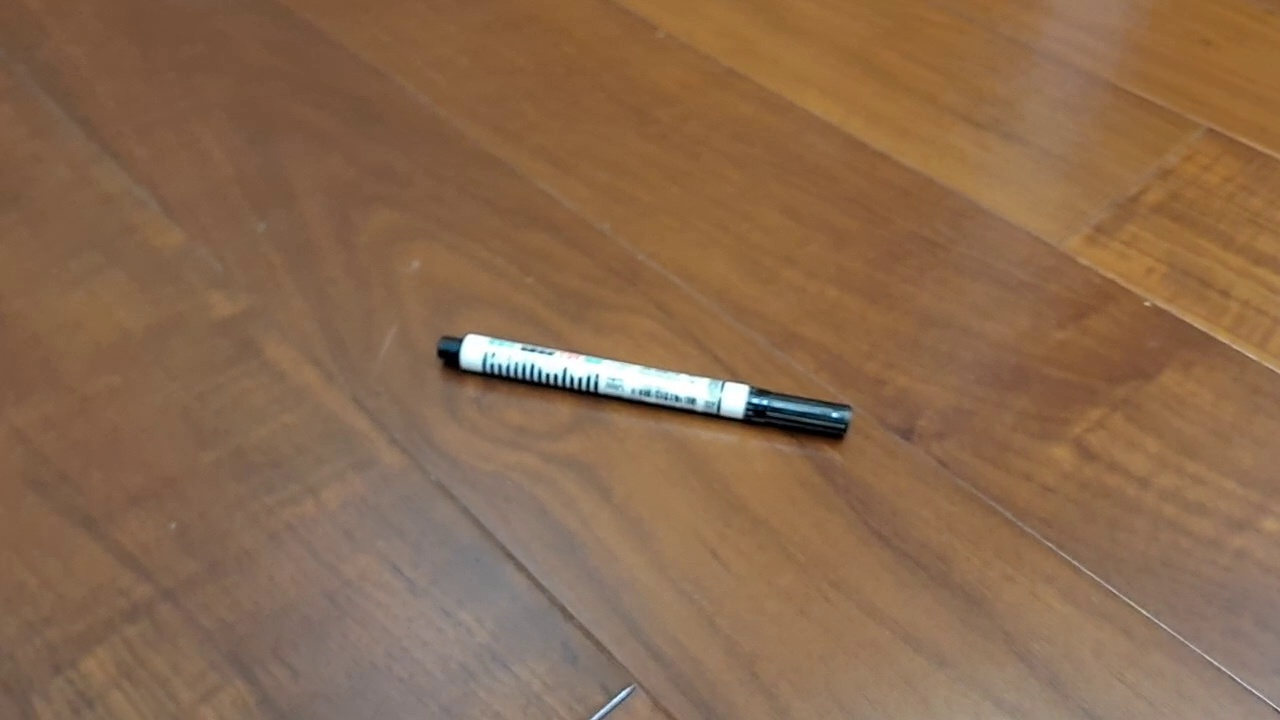pen: (436, 332, 853, 441)
